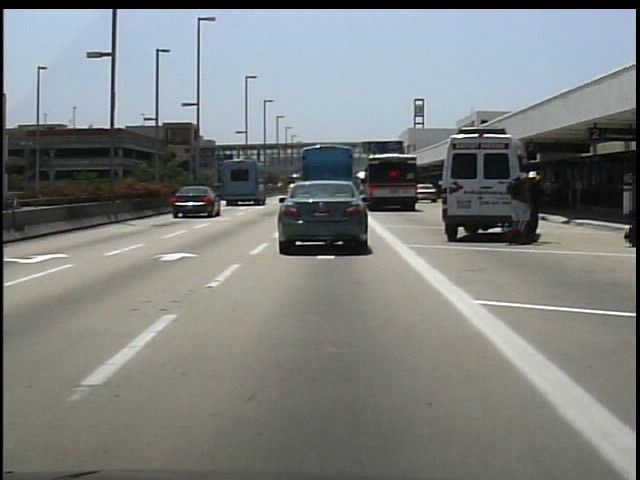person: (506, 161, 538, 245), (529, 171, 547, 245)
